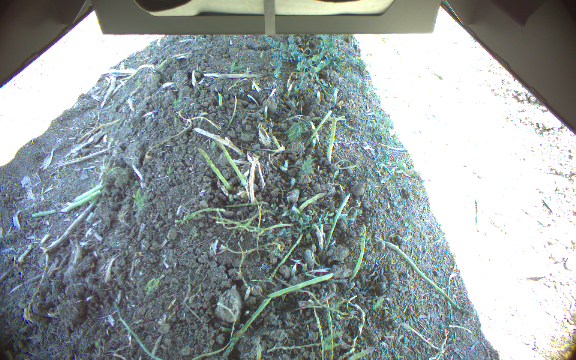aspa: (213, 137, 248, 188), (195, 146, 231, 190), (348, 224, 368, 281), (326, 112, 336, 162)
